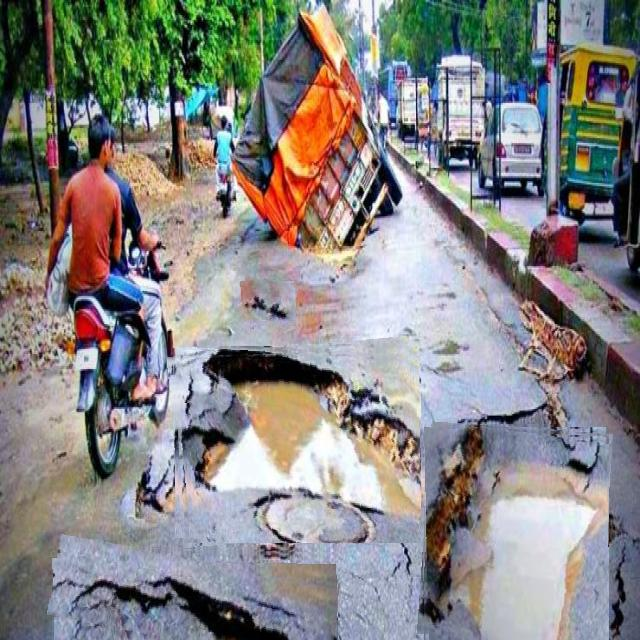Pothole: (171, 341, 421, 543), (420, 424, 609, 640), (49, 546, 338, 640), (238, 280, 296, 326)
